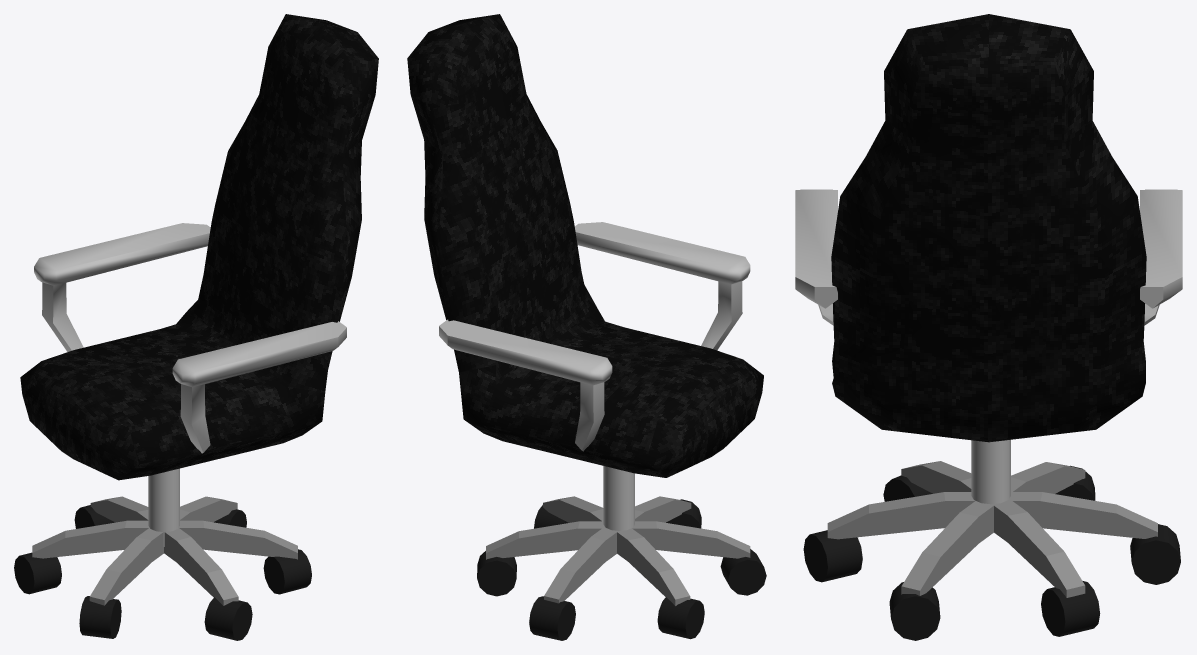
Rendered from dogabana_stolicka.glb.
3 views of the same model, side by side, from view 1: azimuth 30°, elevation 25°; view 2: azimuth 150°, elevation 25°; view 3: azimuth 270°, elevation 25° (orthographic). The views are drawn at different scales.
Parts seen in each view (by area): view 1: RollChair; view 2: RollChair; view 3: RollChair.
Boxes of the visible parts, bbox=[...] form: RollChair: bbox=[14, 14, 378, 640]; RollChair: bbox=[407, 14, 766, 640]; RollChair: bbox=[795, 14, 1182, 640].
Bounding box in the file's own units: 0.2845 × 0.4651 × 0.2485.
4 materials, 1 textured.
